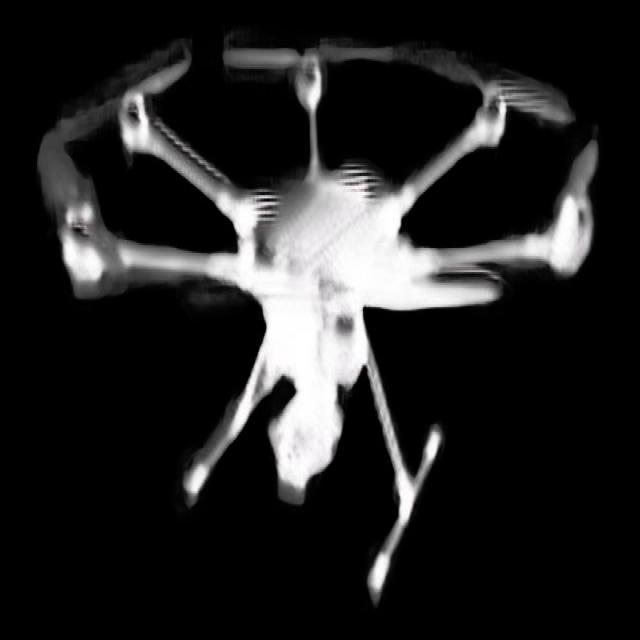drone: (14, 18, 604, 615)
